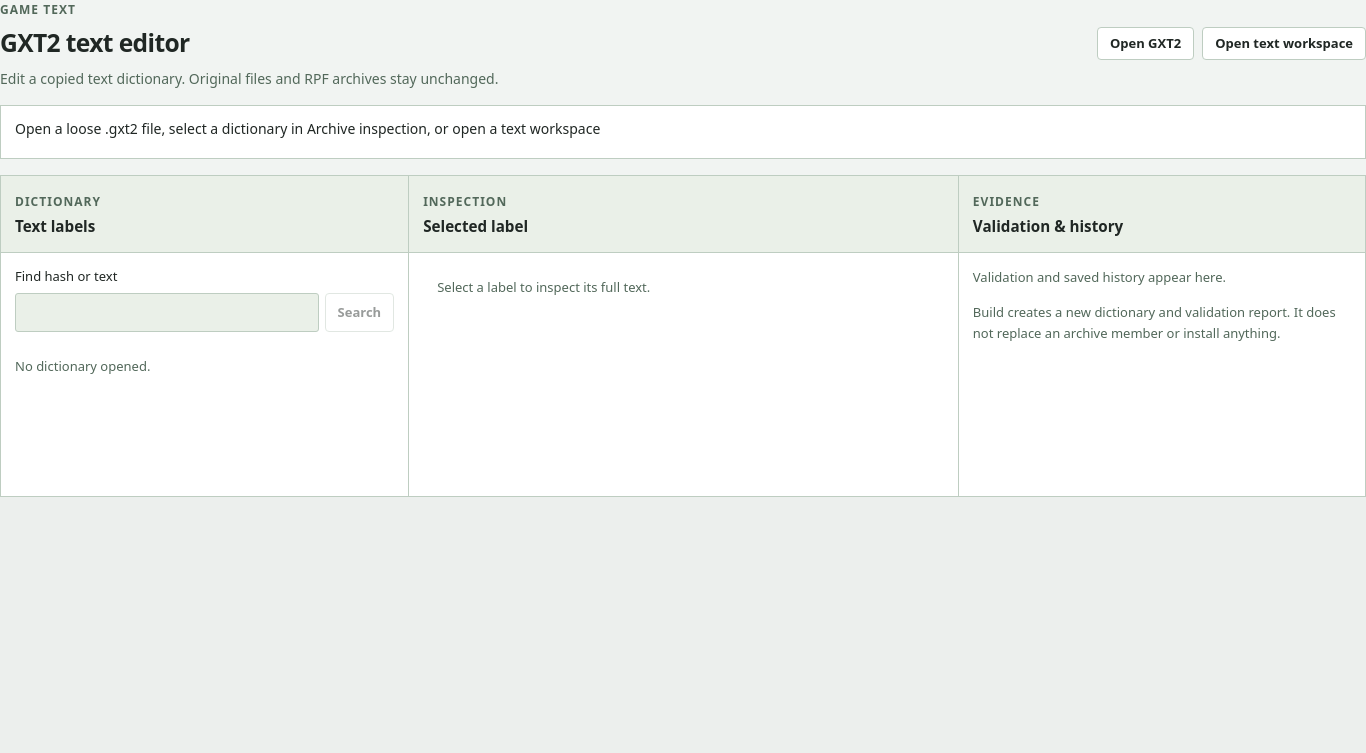
Test: reviews Unicode text, guards navigation and saves exactly the confirmed draft
The image size is (1366, 753).
Later steps or results of the test are not shown.
Click the button "Open text workspace". click: (1284, 43)
box: [1202,27,1365,60]
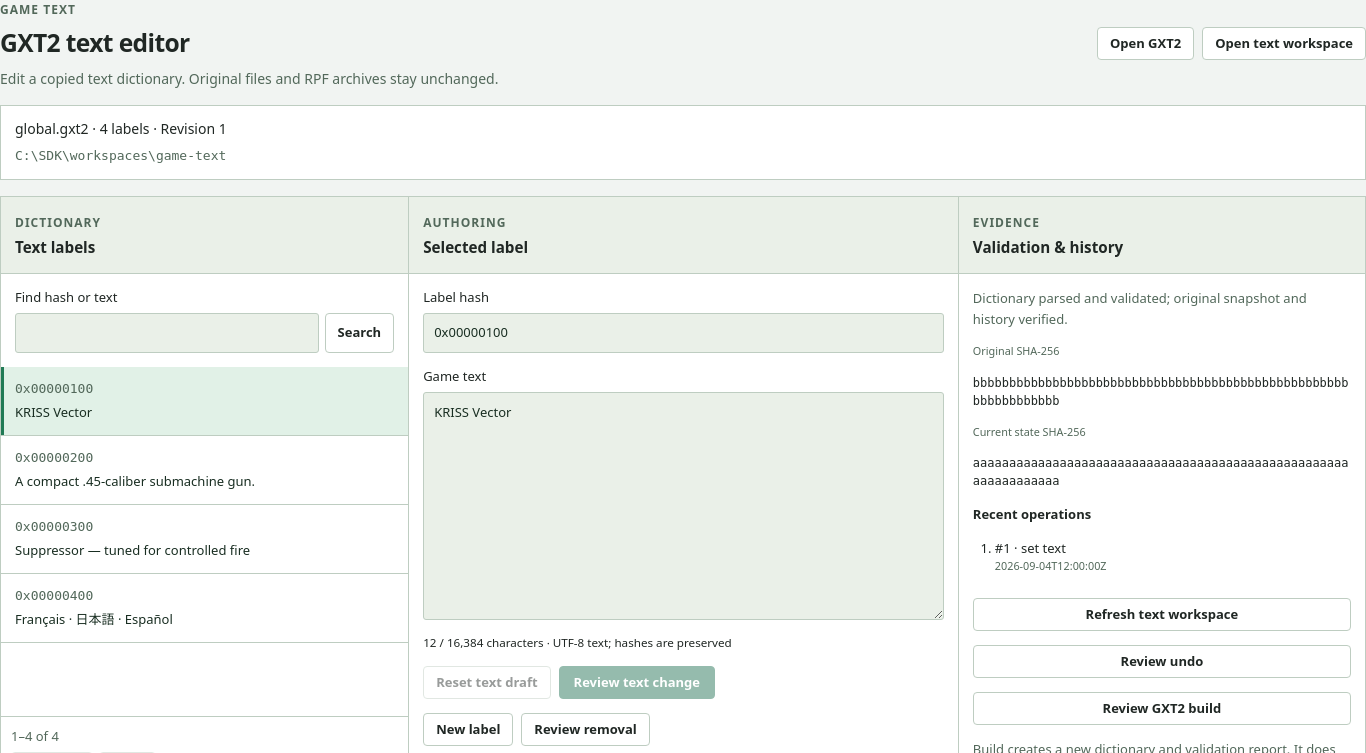
expect the text box showing "KRISS Vector" is shown: met
Replace the text in the text box labelled "Game text" with "Vector — 日本語". click: (684, 506)
box: [423,392,944,620]
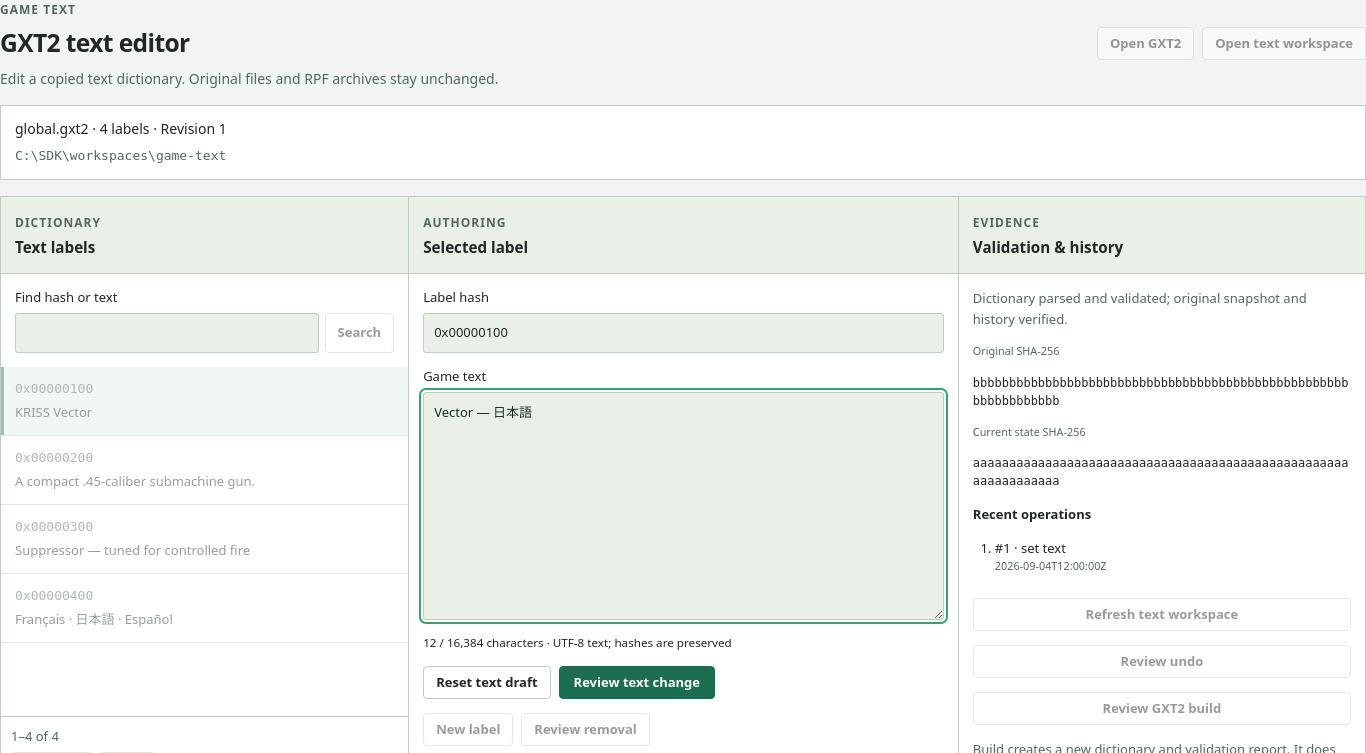
expect the button "Open GXT2" is disabled: met, box [1097,27,1194,60]
Click the button "Review text change". click: (637, 682)
box: [559,666,715,699]
(page scrolled)
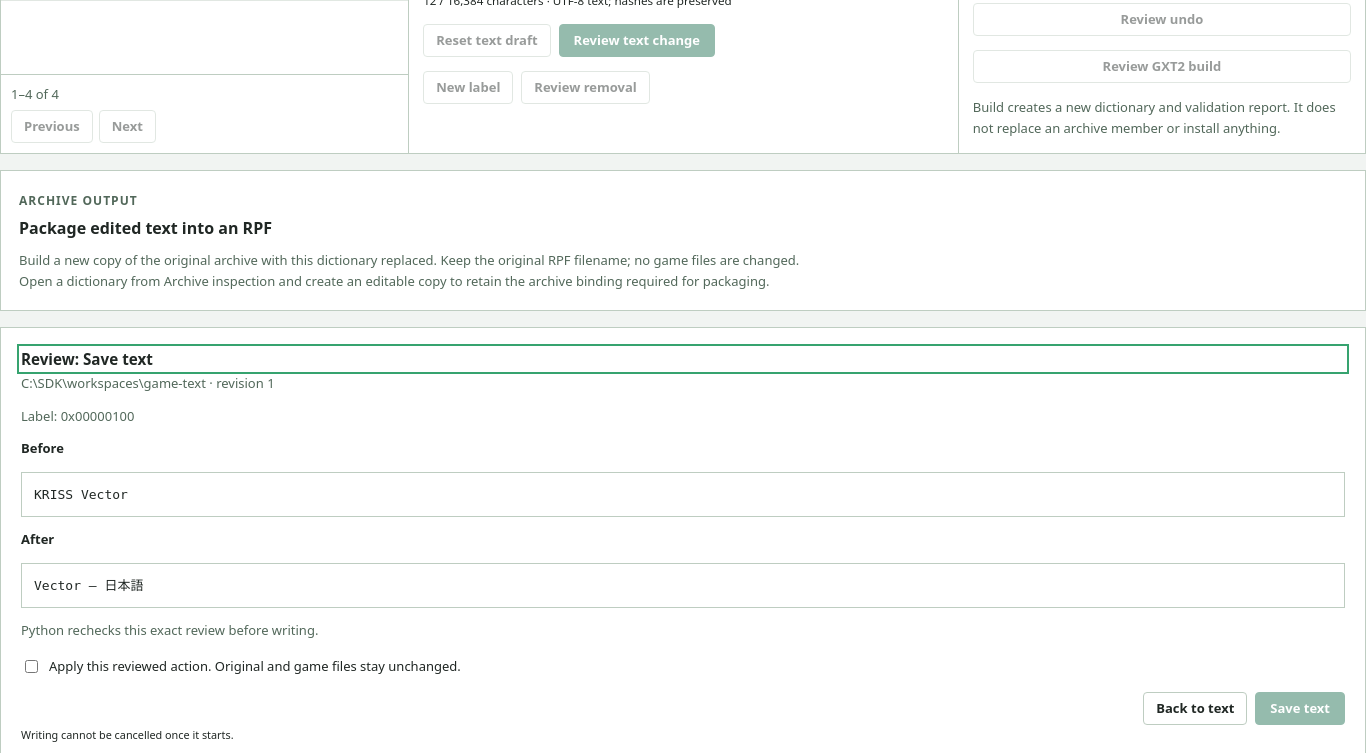
expect the heading "Review: Save text" is shown: met, box [21,349,153,369]
expect the button "Save text" is disabled: met, box [1255,692,1345,726]
